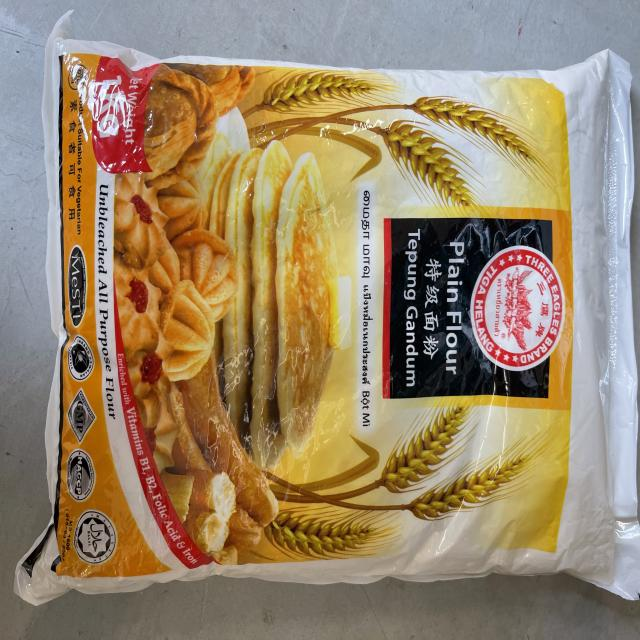object_name: (48, 48, 629, 582)
